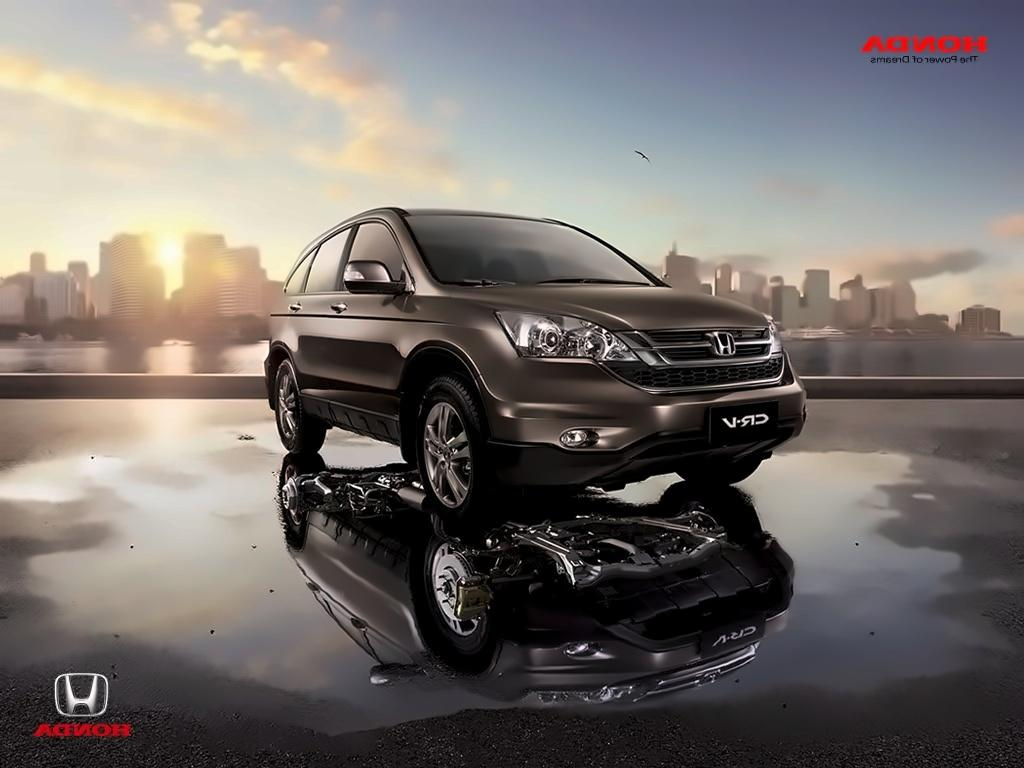Car hood: (449, 283, 773, 333)
Driver-s door - -F-R-: (333, 210, 413, 423)
Fender - -F-R-: (398, 266, 523, 405)
Fender - -R-R-: (256, 293, 297, 366)
Front bumper: (468, 357, 814, 497)
Headlight - -L-: (756, 309, 790, 359)
Headlight - -R-: (490, 301, 647, 369)
Passenger-s door - -R-R-: (282, 217, 348, 403)
Rear bumper: (255, 324, 287, 417)
Side bumper - -R-: (285, 388, 407, 454)
Side mirror - -R-: (337, 257, 405, 299)
